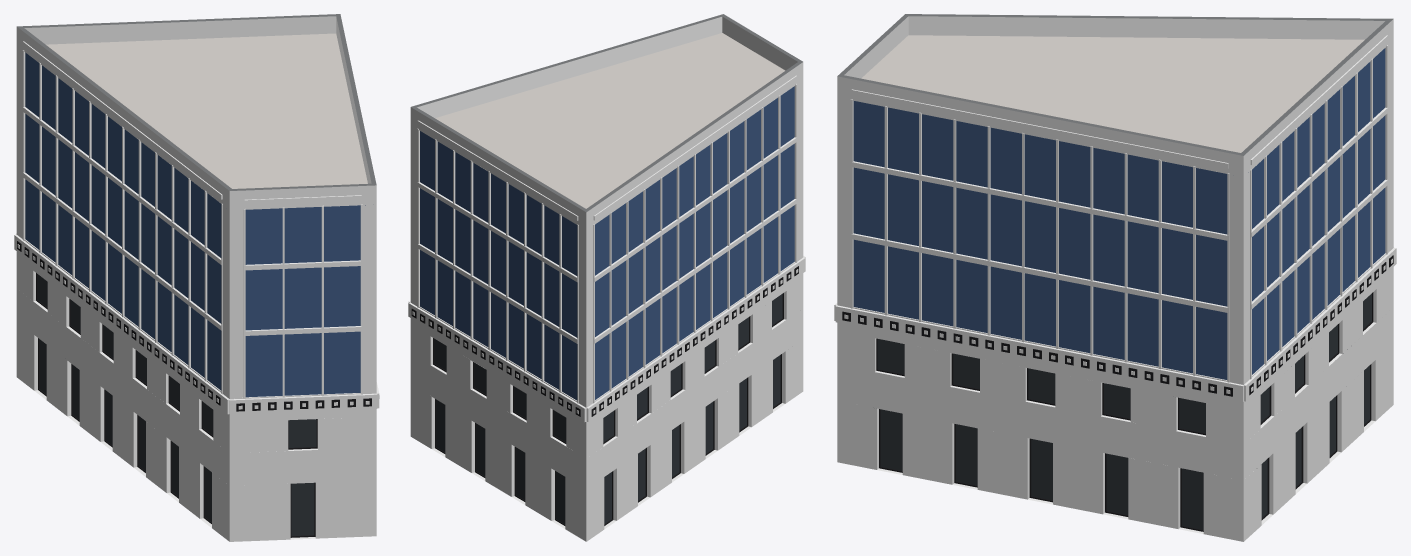
File: goal532.glb
3 views of the same model, side by side, from view 1: azimuth 30°, elevation 25°; view 2: azimuth 150°, elevation 25°; view 3: azimuth 270°, elevation 25° (orthographic). The views are drawn at different scales.
Parts seen in each view (by area): view 1: goal532; view 2: goal532; view 3: goal532.
Boxes of the visible parts, bbox=[...] form: goal532: bbox=[14, 14, 379, 541]; goal532: bbox=[408, 14, 805, 541]; goal532: bbox=[834, 14, 1396, 541].
Bounding box in the file's own units: 14.63 × 18.2 × 24.02.
